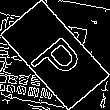P_NE: (22, 25, 88, 85)
